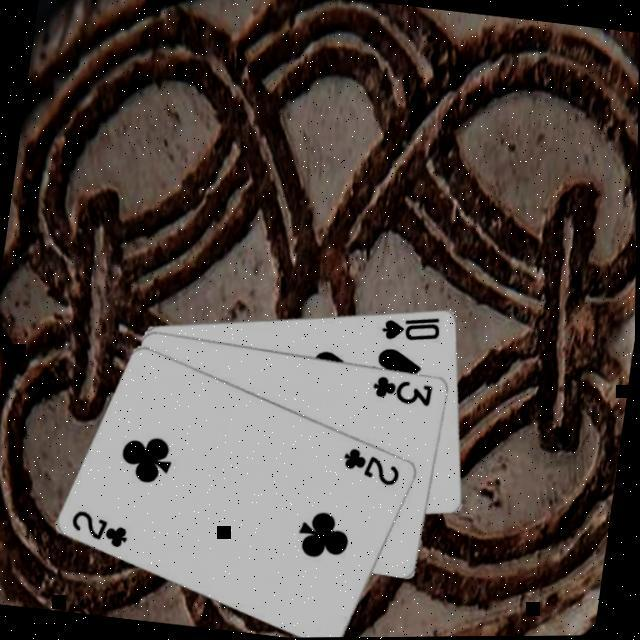10S: (379, 307, 445, 346)
2C: (340, 444, 408, 489), (69, 505, 137, 550)
3C: (371, 370, 438, 408)
